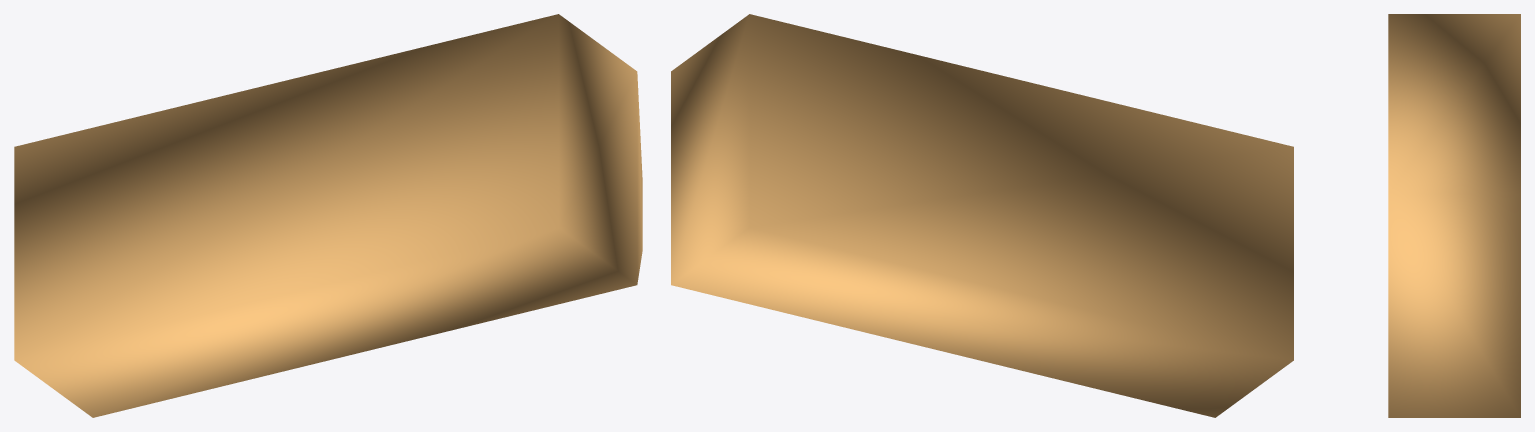
File: placeholder-secondary.gltf
The picture shows the model from 3 angles, left to right: view 1: azimuth 30°, elevation 25°; view 2: azimuth 150°, elevation 25°; view 3: azimuth 270°, elevation 25°; orthographic projection. The views are drawn at different scales.
Visible parts, largest first — view 1: PlaceholderSecondary; view 2: PlaceholderSecondary; view 3: PlaceholderSecondary.
Part boxes in pixels (box(x1,y1,x2,y2)): PlaceholderSecondary: box(14, 14, 642, 417); PlaceholderSecondary: box(671, 14, 1293, 417); PlaceholderSecondary: box(1388, 14, 1520, 417).
Bounding box in the file's own units: 0.8 × 0.3 × 0.3.
